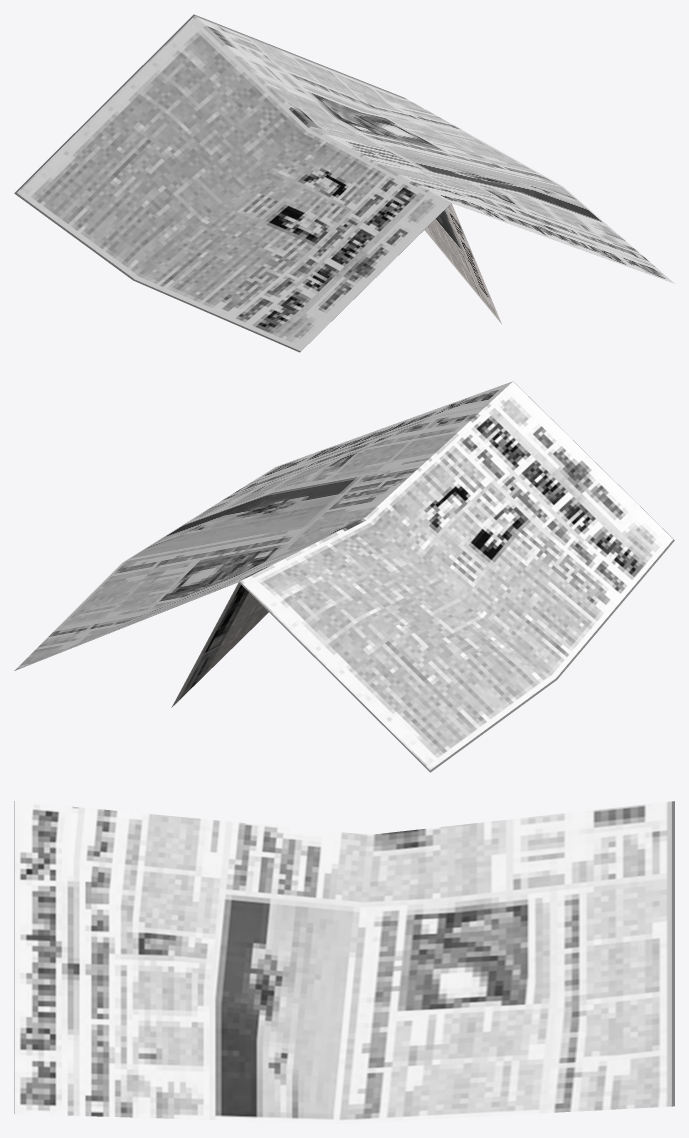
File: newspaper.fbx
3 renders of one model, top to bottom at view 1: azimuth 30°, elevation 25°; view 2: azimuth 150°, elevation 25°; view 3: azimuth 270°, elevation 25°, orthographic. The views are drawn at different scales.
Visible parts, largest first — view 1: newspaper; view 2: newspaper; view 3: newspaper.
Part boxes in pixels (left/top/right/bottom): newspaper: left=14, top=14, right=674, bottom=352; newspaper: left=14, top=381, right=674, bottom=772; newspaper: left=14, top=801, right=674, bottom=1123.
Bounding box in the file's own units: 16.64 × 5.13 × 17.74.
